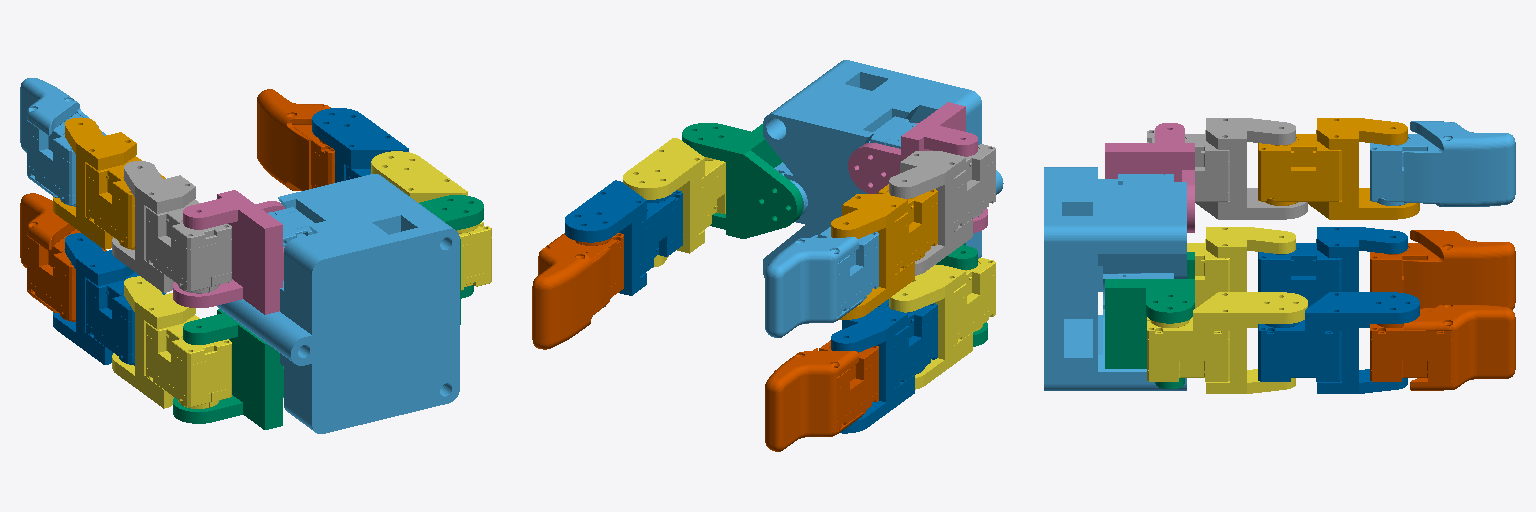
robot.urdf — ur5e_gripper:
<?xml version="1.0" encoding="utf-8"?>
<robot name="ur5e_gripper">

  <!-- ==================== UR5e Links ==================== -->
  <link name="base_link"/>

  <link name="base_link_inertia">
    <visual>
      <origin rpy="0 0 3.14159265359" xyz="0 0 0"/>
      <geometry><mesh filename="package://robot_hand/description/meshes/ur5e/visual/base.dae"/></geometry>
    </visual>
    <collision>
      <origin rpy="0 0 3.14159265359" xyz="0 0 0"/>
      <geometry><mesh filename="package://robot_hand/description/meshes/ur5e/collision/base.stl"/></geometry>
    </collision>
    <inertial>
      <mass value="4.0"/>
      <origin rpy="0 0 0" xyz="0 0 0"/>
      <inertia ixx="0.00443333156" ixy="0.0" ixz="0.0" iyy="0.00443333156" iyz="0.0" izz="0.0072"/>
    </inertial>
  </link>

  <link name="shoulder_link">
    <visual>
      <origin rpy="0 0 3.14159265359" xyz="0 0 0"/>
      <geometry><mesh filename="package://robot_hand/description/meshes/ur5e/visual/shoulder.dae"/></geometry>
    </visual>
    <collision>
      <origin rpy="0 0 3.14159265359" xyz="0 0 0"/>
      <geometry><mesh filename="package://robot_hand/description/meshes/ur5e/collision/shoulder.stl"/></geometry>
    </collision>
    <inertial>
      <mass value="3.7"/>
      <origin rpy="0 0 0" xyz="0 0 0"/>
      <inertia ixx="0.010267495893" ixy="0.0" ixz="0.0" iyy="0.010267495893" iyz="0.0" izz="0.00666"/>
    </inertial>
  </link>

  <link name="upper_arm_link">
    <visual>
      <origin rpy="1.57079632679 0 -1.57079632679" xyz="0 0 0.138"/>
      <geometry><mesh filename="package://robot_hand/description/meshes/ur5e/visual/upperarm.dae"/></geometry>
    </visual>
    <collision>
      <origin rpy="1.57079632679 0 -1.57079632679" xyz="0 0 0.138"/>
      <geometry><mesh filename="package://robot_hand/description/meshes/ur5e/collision/upperarm.stl"/></geometry>
    </collision>
    <inertial>
      <mass value="8.393"/>
      <origin rpy="0 1.57079632679 0" xyz="-0.2125 0.0 0.138"/>
      <inertia ixx="0.133885781862" ixy="0.0" ixz="0.0" iyy="0.133885781862" iyz="0.0" izz="0.0151074"/>
    </inertial>
  </link>

  <link name="forearm_link">
    <visual>
      <origin rpy="1.57079632679 0 -1.57079632679" xyz="0 0 0.007"/>
      <geometry><mesh filename="package://robot_hand/description/meshes/ur5e/visual/forearm.dae"/></geometry>
    </visual>
    <collision>
      <origin rpy="1.57079632679 0 -1.57079632679" xyz="0 0 0.007"/>
      <geometry><mesh filename="package://robot_hand/description/meshes/ur5e/collision/forearm.stl"/></geometry>
    </collision>
    <inertial>
      <mass value="2.275"/>
      <origin rpy="0 1.57079632679 0" xyz="-0.1961 0.0 0.007"/>
      <inertia ixx="0.0312093550996" ixy="0.0" ixz="0.0" iyy="0.0312093550996" iyz="0.0" izz="0.004095"/>
    </inertial>
  </link>

  <link name="wrist_1_link">
    <visual>
      <origin rpy="1.57079632679 0 0" xyz="0 0 -0.127"/>
      <geometry><mesh filename="package://robot_hand/description/meshes/ur5e/visual/wrist1.dae"/></geometry>
    </visual>
    <collision>
      <origin rpy="1.57079632679 0 0" xyz="0 0 -0.127"/>
      <geometry><mesh filename="package://robot_hand/description/meshes/ur5e/collision/wrist1.stl"/></geometry>
    </collision>
    <inertial>
      <mass value="1.219"/>
      <origin rpy="0 0 0" xyz="0 0 0"/>
      <inertia ixx="0.00255989897604" ixy="0.0" ixz="0.0" iyy="0.00255989897604" iyz="0.0" izz="0.0021942"/>
    </inertial>
  </link>

  <link name="wrist_2_link">
    <visual>
      <origin rpy="0 0 0" xyz="0 0 -0.0997"/>
      <geometry><mesh filename="package://robot_hand/description/meshes/ur5e/visual/wrist2.dae"/></geometry>
    </visual>
    <collision>
      <origin rpy="0 0 0" xyz="0 0 -0.0997"/>
      <geometry><mesh filename="package://robot_hand/description/meshes/ur5e/collision/wrist2.stl"/></geometry>
    </collision>
    <inertial>
      <mass value="1.219"/>
      <origin rpy="0 0 0" xyz="0 0 0"/>
      <inertia ixx="0.00255989897604" ixy="0.0" ixz="0.0" iyy="0.00255989897604" iyz="0.0" izz="0.0021942"/>
    </inertial>
  </link>

  <link name="wrist_3_link">
    <visual>
      <origin rpy="1.57079632679 0 0" xyz="0 0 -0.0989"/>
      <geometry><mesh filename="package://robot_hand/description/meshes/ur5e/visual/wrist3.dae"/></geometry>
    </visual>
    <collision>
      <origin rpy="1.57079632679 0 0" xyz="0 0 -0.0989"/>
      <geometry><mesh filename="package://robot_hand/description/meshes/ur5e/collision/wrist3.stl"/></geometry>
    </collision>
    <inertial>
      <mass value="0.1879"/>
      <origin rpy="0 0 0" xyz="0.0 0.0 -0.0229"/>
      <inertia ixx="9.89041005217e-05" ixy="0.0" ixz="0.0" iyy="9.89041005217e-05" iyz="0.0" izz="0.0001321171875"/>
    </inertial>
  </link>

  <link name="ee_link"/>

  <!-- ==================== Gripper Links ==================== -->
  <link name="gripper_palm">
    <visual>
      <origin rpy="0 0 0" xyz="0 0 0"/>
      <geometry><mesh filename="package://robot_hand/description/meshes/gripper/palm.stl" scale="0.001 0.001 0.001"/></geometry>
    </visual>
    <collision>
      <origin rpy="0 0 0" xyz="0 0 0"/>
      <geometry><mesh filename="package://robot_hand/description/meshes/gripper/palm.stl" scale="0.001 0.001 0.001"/></geometry>
    </collision>
    <inertial>
      <mass value="0.2"/>
      <origin rpy="0 0 0" xyz="0 0 0"/>
      <inertia ixx="0.0001" ixy="0.0" ixz="0.0" iyy="0.0001" iyz="0.0" izz="0.0001"/>
    </inertial>
  </link>

  <!-- center finger -->
  <link name="center_palm">
    <visual>
      <origin rpy="0 0 0" xyz="0 0 0"/>
      <geometry><mesh filename="package://robot_hand/description/meshes/gripper/mid_finger_palm_joint.stl" scale="0.001 0.001 0.001"/></geometry>
    </visual>
    <collision>
      <origin rpy="0 0 0" xyz="0 0 0"/>
      <geometry><mesh filename="package://robot_hand/description/meshes/gripper/mid_finger_palm_joint.stl" scale="0.001 0.001 0.001"/></geometry>
    </collision>
    <inertial>
      <mass value="0.05"/>
      <origin rpy="0 0 0" xyz="0 0 0"/>
      <inertia ixx="0.00001" ixy="0.0" ixz="0.0" iyy="0.00001" iyz="0.0" izz="0.00001"/>
    </inertial>
  </link>

  <link name="center_upper_finger">
    <visual>
      <origin rpy="0 0 0" xyz="0 0 0"/>
      <geometry><mesh filename="package://robot_hand/description/meshes/gripper/two_finger.stl" scale="0.001 0.001 0.001"/></geometry>
    </visual>
    <collision>
      <origin rpy="0 0 0" xyz="0 0 0"/>
      <geometry><mesh filename="package://robot_hand/description/meshes/gripper/two_finger.stl" scale="0.001 0.001 0.001"/></geometry>
    </collision>
    <inertial>
      <mass value="0.05"/>
      <origin rpy="0 0 0" xyz="0 0 0"/>
      <inertia ixx="0.00001" ixy="0.0" ixz="0.0" iyy="0.00001" iyz="0.0" izz="0.00001"/>
    </inertial>
  </link>

  <link name="center_lower_finger">
    <visual>
      <origin rpy="0 0 0" xyz="0 0 0"/>
      <geometry><mesh filename="package://robot_hand/description/meshes/gripper/two_finger.stl" scale="0.001 0.001 0.001"/></geometry>
    </visual>
    <collision>
      <origin rpy="0 0 0" xyz="0 0 0"/>
      <geometry><mesh filename="package://robot_hand/description/meshes/gripper/two_finger.stl" scale="0.001 0.001 0.001"/></geometry>
    </collision>
    <inertial>
      <mass value="0.05"/>
      <origin rpy="0 0 0" xyz="0 0 0"/>
      <inertia ixx="0.00001" ixy="0.0" ixz="0.0" iyy="0.00001" iyz="0.0" izz="0.00001"/>
    </inertial>
  </link>

  <link name="center_fingertip">
    <visual>
      <origin rpy="0 0 0" xyz="0 0 0"/>
      <geometry><mesh filename="package://robot_hand/description/meshes/gripper/two_finger_tip.stl" scale="0.001 0.001 0.001"/></geometry>
    </visual>
    <collision>
      <origin rpy="0 0 0" xyz="0 0 0"/>
      <geometry><mesh filename="package://robot_hand/description/meshes/gripper/two_finger_tip.stl" scale="0.001 0.001 0.001"/></geometry>
    </collision>
    <inertial>
      <mass value="0.02"/>
      <origin rpy="0 0 0" xyz="0 0 0"/>
      <inertia ixx="0.000001" ixy="0.0" ixz="0.0" iyy="0.000001" iyz="0.0" izz="0.000001"/>
    </inertial>
  </link>

  <!-- left finger -->
  <link name="left_palm">
    <visual>
      <origin rpy="0 0 0" xyz="0 0 0"/>
      <geometry><mesh filename="package://robot_hand/description/meshes/gripper/two_finger_palm_joint.stl" scale="0.001 0.001 0.001"/></geometry>
    </visual>
    <collision>
      <origin rpy="0 0 0" xyz="0 0 0"/>
      <geometry><mesh filename="package://robot_hand/description/meshes/gripper/two_finger_palm_joint.stl" scale="0.001 0.001 0.001"/></geometry>
    </collision>
    <inertial>
      <mass value="0.05"/>
      <origin rpy="0 0 0" xyz="0 0 0"/>
      <inertia ixx="0.00001" ixy="0.0" ixz="0.0" iyy="0.00001" iyz="0.0" izz="0.00001"/>
    </inertial>
  </link>

  <link name="left_upper_finger">
    <visual>
      <origin rpy="0 0 0" xyz="0 0 0"/>
      <geometry><mesh filename="package://robot_hand/description/meshes/gripper/two_finger.stl" scale="0.001 0.001 0.001"/></geometry>
    </visual>
    <collision>
      <origin rpy="0 0 0" xyz="0 0 0"/>
      <geometry><mesh filename="package://robot_hand/description/meshes/gripper/two_finger.stl" scale="0.001 0.001 0.001"/></geometry>
    </collision>
    <inertial>
      <mass value="0.05"/>
      <origin rpy="0 0 0" xyz="0 0 0"/>
      <inertia ixx="0.00001" ixy="0.0" ixz="0.0" iyy="0.00001" iyz="0.0" izz="0.00001"/>
    </inertial>
  </link>

  <link name="left_lower_finger">
    <visual>
      <origin rpy="0 0 0" xyz="0 0 0"/>
      <geometry><mesh filename="package://robot_hand/description/meshes/gripper/two_finger.stl" scale="0.001 0.001 0.001"/></geometry>
    </visual>
    <collision>
      <origin rpy="0 0 0" xyz="0 0 0"/>
      <geometry><mesh filename="package://robot_hand/description/meshes/gripper/two_finger.stl" scale="0.001 0.001 0.001"/></geometry>
    </collision>
    <inertial>
      <mass value="0.05"/>
      <origin rpy="0 0 0" xyz="0 0 0"/>
      <inertia ixx="0.00001" ixy="0.0" ixz="0.0" iyy="0.00001" iyz="0.0" izz="0.00001"/>
    </inertial>
  </link>

  <link name="left_fingertip">
    <visual>
      <origin rpy="0 0 0" xyz="0 0 0"/>
      <geometry><mesh filename="package://robot_hand/description/meshes/gripper/two_finger_tip.stl" scale="0.001 0.001 0.001"/></geometry>
    </visual>
    <collision>
      <origin rpy="0 0 0" xyz="0 0 0"/>
      <geometry><mesh filename="package://robot_hand/description/meshes/gripper/two_finger_tip.stl" scale="0.001 0.001 0.001"/></geometry>
    </collision>
    <inertial>
      <mass value="0.02"/>
      <origin rpy="0 0 0" xyz="0 0 0"/>
      <inertia ixx="0.000001" ixy="0.0" ixz="0.0" iyy="0.000001" iyz="0.0" izz="0.000001"/>
    </inertial>
  </link>

  <!-- right finger -->
  <link name="right_palm">
    <visual>
      <origin rpy="0 0 0" xyz="0 0 0"/>
      <geometry><mesh filename="package://robot_hand/description/meshes/gripper/two_finger_palm_joint.stl" scale="0.001 0.001 0.001"/></geometry>
    </visual>
    <collision>
      <origin rpy="0 0 0" xyz="0 0 0"/>
      <geometry><mesh filename="package://robot_hand/description/meshes/gripper/two_finger_palm_joint.stl" scale="0.001 0.001 0.001"/></geometry>
    </collision>
    <inertial>
      <mass value="0.05"/>
      <origin rpy="0 0 0" xyz="0 0 0"/>
      <inertia ixx="0.00001" ixy="0.0" ixz="0.0" iyy="0.00001" iyz="0.0" izz="0.00001"/>
    </inertial>
  </link>

  <link name="right_upper_finger">
    <visual>
      <origin rpy="0 0 0" xyz="0 0 0"/>
      <geometry><mesh filename="package://robot_hand/description/meshes/gripper/two_finger.stl" scale="0.001 0.001 0.001"/></geometry>
    </visual>
    <collision>
      <origin rpy="0 0 0" xyz="0 0 0"/>
      <geometry><mesh filename="package://robot_hand/description/meshes/gripper/two_finger.stl" scale="0.001 0.001 0.001"/></geometry>
    </collision>
    <inertial>
      <mass value="0.05"/>
      <origin rpy="0 0 0" xyz="0 0 0"/>
      <inertia ixx="0.00001" ixy="0.0" ixz="0.0" iyy="0.00001" iyz="0.0" izz="0.00001"/>
    </inertial>
  </link>

  <link name="right_lower_finger">
    <visual>
      <origin rpy="0 0 0" xyz="0 0 0"/>
      <geometry><mesh filename="package://robot_hand/description/meshes/gripper/two_finger.stl" scale="0.001 0.001 0.001"/></geometry>
    </visual>
    <collision>
      <origin rpy="0 0 0" xyz="0 0 0"/>
      <geometry><mesh filename="package://robot_hand/description/meshes/gripper/two_finger.stl" scale="0.001 0.001 0.001"/></geometry>
    </collision>
    <inertial>
      <mass value="0.05"/>
      <origin rpy="0 0 0" xyz="0 0 0"/>
      <inertia ixx="0.00001" ixy="0.0" ixz="0.0" iyy="0.00001" iyz="0.0" izz="0.00001"/>
    </inertial>
  </link>

  <link name="right_fingertip">
    <visual>
      <origin rpy="0 0 0" xyz="0 0 0"/>
      <geometry><mesh filename="package://robot_hand/description/meshes/gripper/two_finger_tip.stl" scale="0.001 0.001 0.001"/></geometry>
    </visual>
    <collision>
      <origin rpy="0 0 0" xyz="0 0 0"/>
      <geometry><mesh filename="package://robot_hand/description/meshes/gripper/two_finger_tip.stl" scale="0.001 0.001 0.001"/></geometry>
    </collision>
    <inertial>
      <mass value="0.02"/>
      <origin rpy="0 0 0" xyz="0 0 0"/>
      <inertia ixx="0.000001" ixy="0.0" ixz="0.0" iyy="0.000001" iyz="0.0" izz="0.000001"/>
    </inertial>
  </link>

  <!-- ==================== UR5e Joints ==================== -->
  <joint name="base_link-base_link_inertia" type="fixed">
    <parent link="base_link"/>
    <child link="base_link_inertia"/>
    <origin rpy="0 0 3.14159265359" xyz="0 0 0"/>
  </joint>

  <joint name="shoulder_pan_joint" type="revolute">
    <parent link="base_link_inertia"/>
    <child link="shoulder_link"/>
    <origin rpy="0 0 0" xyz="0 0 0.1625"/>
    <axis xyz="0 0 1"/>
    <limit effort="150.0" lower="-6.28318530718" upper="6.28318530718" velocity="3.14159265359"/>
    <dynamics damping="0" friction="0"/>
  </joint>

  <joint name="shoulder_lift_joint" type="revolute">
    <parent link="shoulder_link"/>
    <child link="upper_arm_link"/>
    <origin rpy="1.570796327 0 0" xyz="0 0 0"/>
    <axis xyz="0 0 1"/>
    <limit effort="150.0" lower="-6.28318530718" upper="6.28318530718" velocity="3.14159265359"/>
    <dynamics damping="0" friction="0"/>
  </joint>

  <joint name="elbow_joint" type="revolute">
    <parent link="upper_arm_link"/>
    <child link="forearm_link"/>
    <origin rpy="0 0 0" xyz="-0.425 0 0"/>
    <axis xyz="0 0 1"/>
    <limit effort="150.0" lower="-3.14159265359" upper="3.14159265359" velocity="3.14159265359"/>
    <dynamics damping="0" friction="0"/>
  </joint>

  <joint name="wrist_1_joint" type="revolute">
    <parent link="forearm_link"/>
    <child link="wrist_1_link"/>
    <origin rpy="0 0 0" xyz="-0.3922 0 0.1333"/>
    <axis xyz="0 0 1"/>
    <limit effort="28.0" lower="-6.28318530718" upper="6.28318530718" velocity="3.14159265359"/>
    <dynamics damping="0" friction="0"/>
  </joint>

  <joint name="wrist_2_joint" type="revolute">
    <parent link="wrist_1_link"/>
    <child link="wrist_2_link"/>
    <origin rpy="1.570796327 0 0" xyz="0 -0.0997 0"/>
    <axis xyz="0 0 1"/>
    <limit effort="28.0" lower="-6.28318530718" upper="6.28318530718" velocity="3.14159265359"/>
    <dynamics damping="0" friction="0"/>
  </joint>

  <joint name="wrist_3_joint" type="revolute">
    <parent link="wrist_2_link"/>
    <child link="wrist_3_link"/>
    <origin rpy="1.57079632659 3.14159265359 3.14159265359" xyz="0 0.0996 0"/>
    <axis xyz="0 0 1"/>
    <limit effort="28.0" lower="-6.28318530718" upper="6.28318530718" velocity="3.14159265359"/>
    <dynamics damping="0" friction="0"/>
  </joint>

  <joint name="wrist_3-ee_link" type="fixed">
    <parent link="wrist_3_link"/>
    <child link="ee_link"/>
    <origin rpy="0 -1.57079632679 -1.57079632679" xyz="0 0 0"/>
  </joint>

  <!-- ==================== Gripper Joints ==================== -->
  <!-- wrist_3 → gripper_palm -->
  <joint name="wrist_3_to_palm" type="fixed">
    <parent link="wrist_3_link"/>
    <child link="gripper_palm"/>
    <origin rpy="0 3.14159265359 0" xyz="0 0 0.043"/>
  </joint>

  <!-- gripper_palm → center_palm: X=25.5mm, Z축 회전 -->
  <joint name="center_palm_joint" type="revolute">
    <parent link="gripper_palm"/>
    <child link="center_palm"/>
    <origin rpy="0 0 0" xyz="0.0255 0 0"/>
    <axis xyz="0 0 1"/>
    <limit effort="10.0" lower="-1.5708" upper="1.5708" velocity="1.0"/>
  </joint>

  <!-- center_palm → center_upper_finger: X=36mm, Z=-8.25mm, Y축 회전 -->
  <joint name="center_upper_finger_joint" type="revolute">
    <parent link="center_palm"/>
    <child link="center_upper_finger"/>
    <origin rpy="0 0 0" xyz="0.036 0 -0.00825"/>
    <axis xyz="0 1 0"/>
    <limit effort="10.0" lower="-1.5708" upper="1.5708" velocity="1.0"/>
  </joint>

  <!-- center_upper_finger → center_lower_finger: Z=-45.5mm, Y축 회전 -->
  <joint name="center_lower_finger_joint" type="revolute">
    <parent link="center_upper_finger"/>
    <child link="center_lower_finger"/>
    <origin rpy="0 0 0" xyz="0 0 -0.0455"/>
    <axis xyz="0 1 0"/>
    <limit effort="10.0" lower="-1.5708" upper="1.5708" velocity="1.0"/>
  </joint>

  <!-- center_lower_finger → center_fingertip: Z=-45.5mm, Y축 회전 -->
  <joint name="center_fingertip_joint" type="revolute">
    <parent link="center_lower_finger"/>
    <child link="center_fingertip"/>
    <origin rpy="0 0 0" xyz="0 0 -0.0455"/>
    <axis xyz="0 1 0"/>
    <limit effort="10.0" lower="-1.5708" upper="1.5708" velocity="1.0"/>
  </joint>

  <!-- gripper_palm → left_palm: X=-17.5mm, Y=+24.5mm, Z축 회전 -->
  <joint name="left_palm_joint" type="revolute">
    <parent link="gripper_palm"/>
    <child link="left_palm"/>
    <origin rpy="0 0 0" xyz="-0.0175 0.0245 0"/>
    <axis xyz="0 0 1"/>
    <limit effort="10.0" lower="-1.5708" upper="1.5708" velocity="1.0"/>
  </joint>

  <!-- left_palm → left_upper_finger: X=-36mm, Z=-8.25mm, Z180도, Y축 회전 -->
  <joint name="left_upper_finger_joint" type="revolute">
    <parent link="left_palm"/>
    <child link="left_upper_finger"/>
    <origin rpy="0 0 3.14159265359" xyz="-0.036 0 -0.00825"/>
    <axis xyz="0 1 0"/>
    <limit effort="10.0" lower="-1.5708" upper="1.5708" velocity="1.0"/>
  </joint>

  <!-- left_upper_finger → left_lower_finger: Z=-45.5mm, Y축 회전 -->
  <joint name="left_lower_finger_joint" type="revolute">
    <parent link="left_upper_finger"/>
    <child link="left_lower_finger"/>
    <origin rpy="0 0 0" xyz="0 0 -0.0455"/>
    <axis xyz="0 1 0"/>
    <limit effort="10.0" lower="-1.5708" upper="1.5708" velocity="1.0"/>
  </joint>

  <!-- left_lower_finger → left_fingertip: Z=-45.5mm, Y축 회전 -->
  <joint name="left_fingertip_joint" type="revolute">
    <parent link="left_lower_finger"/>
    <child link="left_fingertip"/>
    <origin rpy="0 0 0" xyz="0 0 -0.0455"/>
    <axis xyz="0 1 0"/>
    <limit effort="10.0" lower="-1.5708" upper="1.5708" velocity="1.0"/>
  </joint>

  <!-- gripper_palm → right_palm: X=-17.5mm, Y=-24.5mm, Z축 회전 -->
  <joint name="right_palm_joint" type="revolute">
    <parent link="gripper_palm"/>
    <child link="right_palm"/>
    <origin rpy="0 0 0" xyz="-0.0175 -0.0245 0"/>
    <axis xyz="0 0 1"/>
    <limit effort="10.0" lower="-1.5708" upper="1.5708" velocity="1.0"/>
  </joint>

  <!-- right_palm → right_upper_finger: X=-36mm, Z=-8.25mm, Z180도, Y축 회전 -->
  <joint name="right_upper_finger_joint" type="revolute">
    <parent link="right_palm"/>
    <child link="right_upper_finger"/>
    <origin rpy="0 0 3.14159265359" xyz="-0.036 0 -0.00825"/>
    <axis xyz="0 1 0"/>
    <limit effort="10.0" lower="-1.5708" upper="1.5708" velocity="1.0"/>
  </joint>

  <!-- right_upper_finger → right_lower_finger: Z=-45.5mm, Y축 회전 -->
  <joint name="right_lower_finger_joint" type="revolute">
    <parent link="right_upper_finger"/>
    <child link="right_lower_finger"/>
    <origin rpy="0 0 0" xyz="0 0 -0.0455"/>
    <axis xyz="0 1 0"/>
    <limit effort="10.0" lower="-1.5708" upper="1.5708" velocity="1.0"/>
  </joint>

  <!-- right_lower_finger → right_fingertip: Z=-45.5mm, Y축 회전 -->
  <joint name="right_fingertip_joint" type="revolute">
    <parent link="right_lower_finger"/>
    <child link="right_fingertip"/>
    <origin rpy="0 0 0" xyz="0 0 -0.0455"/>
    <axis xyz="0 1 0"/>
    <limit effort="10.0" lower="-1.5708" upper="1.5708" velocity="1.0"/>
  </joint>

</robot>

--- Render facts (derived) ---
Views: 3 orthographic renders of the robot side by side, from view 1: azimuth 30°, elevation 25°; view 2: azimuth 150°, elevation 25°; view 3: azimuth 270°, elevation 25°.
Robot: ur5e_gripper — 22 links, 21 joints (18 revolute, 3 fixed); root link base_link; default pose: all joints at 0.
Visible links, largest first — view 1: gripper_palm, left_upper_finger, right_upper_finger, left_palm, left_lower_finger, right_lower_finger, right_palm, center_fingertip, left_fingertip, right_fingertip, center_upper_finger, center_lower_finger (+1 smaller); view 2: gripper_palm, right_fingertip, left_fingertip, center_palm, center_fingertip, left_lower_finger, center_lower_finger, left_upper_finger, right_lower_finger, right_upper_finger, center_upper_finger, left_palm (+1 smaller); view 3: gripper_palm, left_fingertip, center_fingertip, center_lower_finger, center_upper_finger, left_lower_finger, right_fingertip, left_upper_finger, right_lower_finger, center_palm, right_upper_finger, left_palm.
Link boxes in pixels (<box>): gripper_palm: <box>217,174,459,433</box>; left_upper_finger: <box>112,161,231,293</box>; right_upper_finger: <box>112,276,231,408</box>; left_palm: <box>173,190,285,314</box>; left_lower_finger: <box>53,117,165,249</box>; right_lower_finger: <box>53,233,165,365</box>; right_palm: <box>173,309,283,429</box>; center_fingertip: <box>257,89,334,190</box>; left_fingertip: <box>20,78,105,206</box>; right_fingertip: <box>20,193,106,321</box>; center_upper_finger: <box>371,151,491,290</box>; center_lower_finger: <box>312,108,408,182</box>; gripper_palm: <box>763,60,1003,277</box>; right_fingertip: <box>765,340,878,451</box>; left_fingertip: <box>765,227,878,337</box>; center_palm: <box>682,123,802,238</box>; center_fingertip: <box>532,233,623,349</box>; left_lower_finger: <box>831,184,937,319</box>; center_lower_finger: <box>565,180,682,306</box>; left_upper_finger: <box>889,144,995,275</box>; right_lower_finger: <box>831,299,937,433</box>; right_upper_finger: <box>889,258,995,389</box>; center_upper_finger: <box>623,138,725,267</box>; left_palm: <box>848,102,987,232</box>; gripper_palm: <box>1044,167,1186,390</box>; left_fingertip: <box>1370,121,1515,206</box>; center_fingertip: <box>1370,305,1515,390</box>; center_lower_finger: <box>1258,292,1419,393</box>; center_upper_finger: <box>1147,292,1307,393</box>; left_lower_finger: <box>1258,118,1419,219</box>; right_fingertip: <box>1370,230,1515,309</box>; left_upper_finger: <box>1147,118,1307,219</box>; right_lower_finger: <box>1258,227,1407,327</box>; center_palm: <box>1105,279,1194,388</box>; right_upper_finger: <box>1187,227,1295,327</box>; left_palm: <box>1105,123,1194,232</box>.
Size in the robot's own frame: 0.135 by 0.1923 by 0.0857 metres.
Meshes: 12 distinct files referenced, 13 mesh visuals loaded (5 binary STL); not drawn: 7 (reference not matched to a file when rendering).
